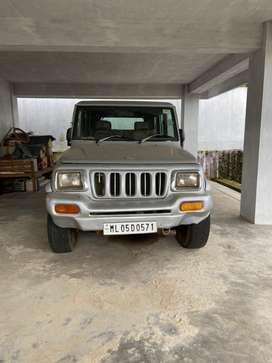ML05D0571: (102, 220, 157, 233)
